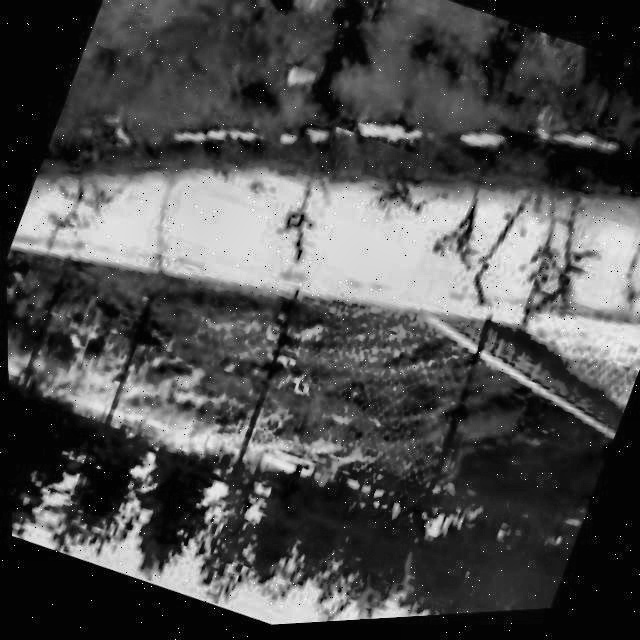Fire: (219, 0, 340, 30)
